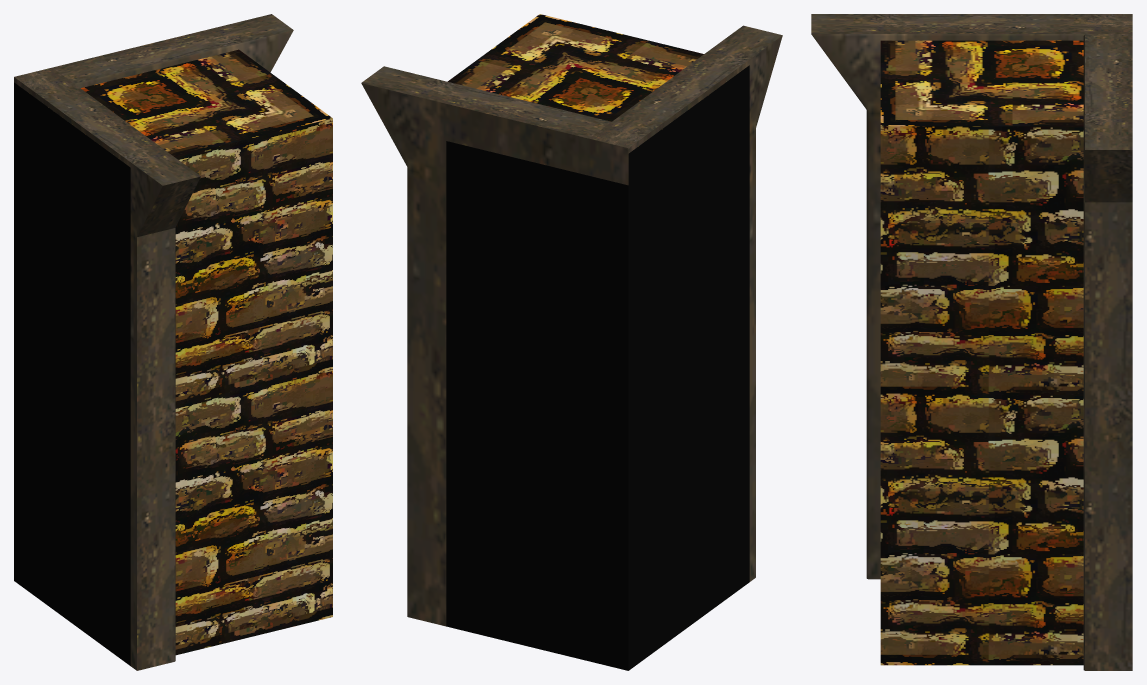
File: stoneCornerC.fbx
The picture shows the model from 3 angles, left to right: view 1: azimuth 30°, elevation 25°; view 2: azimuth 150°, elevation 25°; view 3: azimuth 270°, elevation 25°; orthographic projection. The views are drawn at different scales.
Visible parts, largest first — view 1: stoneCornerC; view 2: stoneCornerC; view 3: stoneCornerC.
Part boxes in pixels (<box>): stoneCornerC: <box>14,14,332,670</box>; stoneCornerC: <box>361,14,782,670</box>; stoneCornerC: <box>811,14,1132,670</box>.
Bounding box in the file's own units: 161 × 301 × 161.
